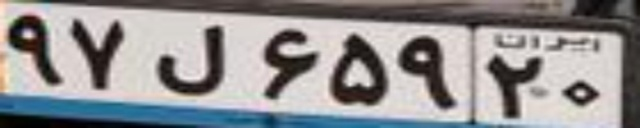0: (558, 78, 599, 106)
2: (487, 53, 544, 118)
5: (327, 31, 386, 106)
6: (255, 27, 319, 99)
7: (67, 16, 128, 90)
9: (395, 35, 458, 110), (2, 13, 60, 86)
lam: (152, 24, 227, 97)
